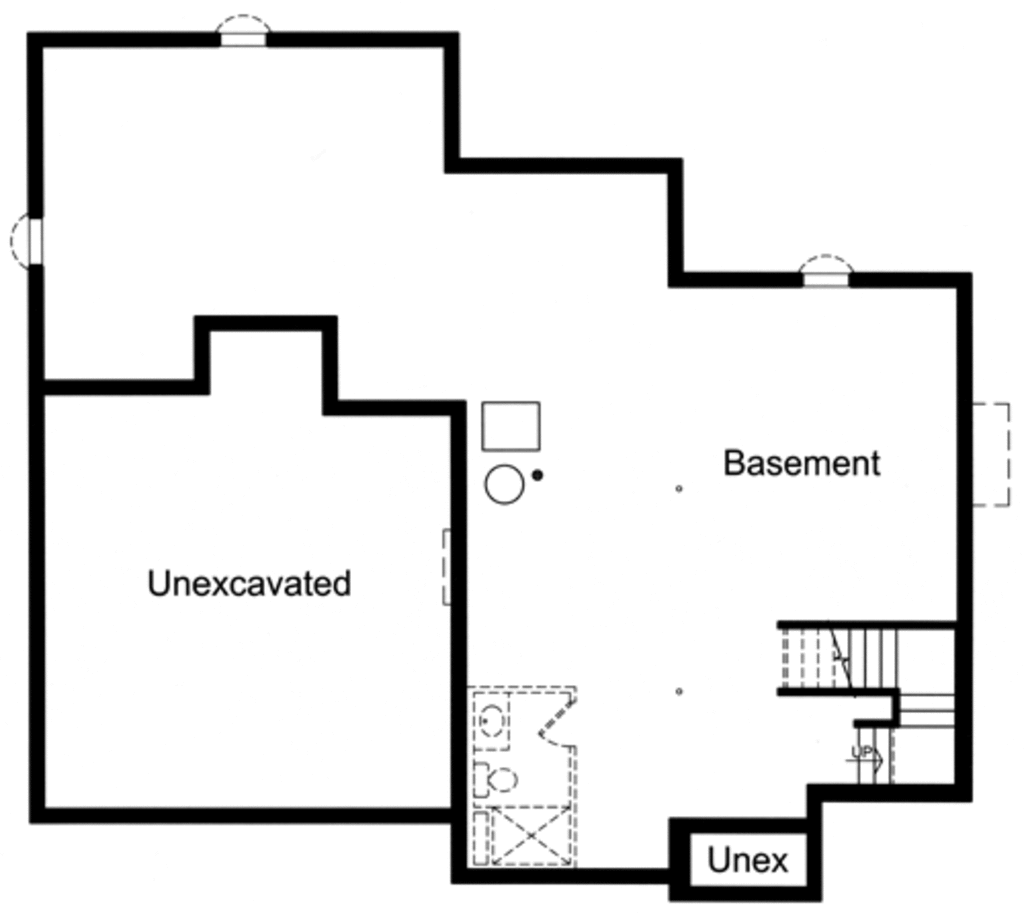large_sink: (468, 749, 523, 804)
stairs: (773, 619, 963, 793)
windows: (793, 254, 857, 297), (211, 10, 275, 45), (12, 214, 43, 267)
